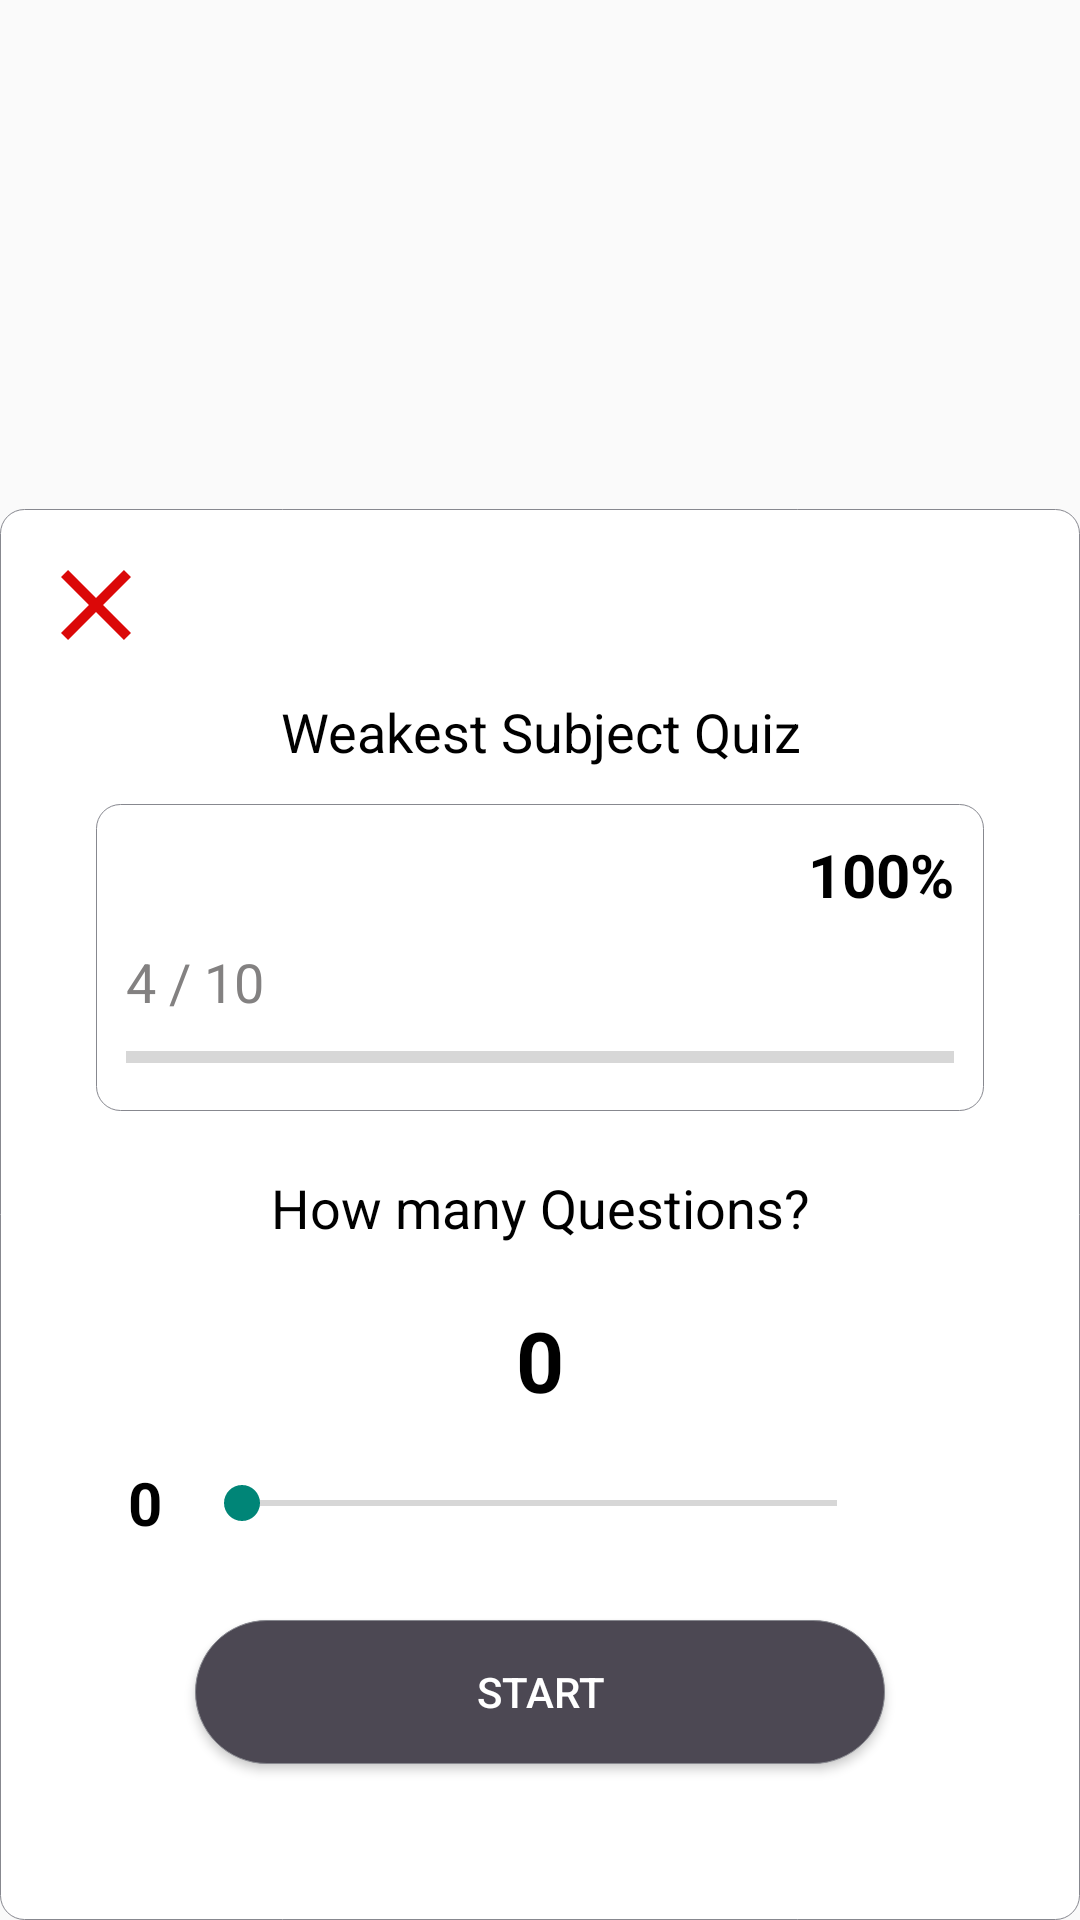

Named icons in this screenshot (1080×1920) and their bounding boxes, (x1, y1, x2, y2):
close: (61, 570, 131, 640)
